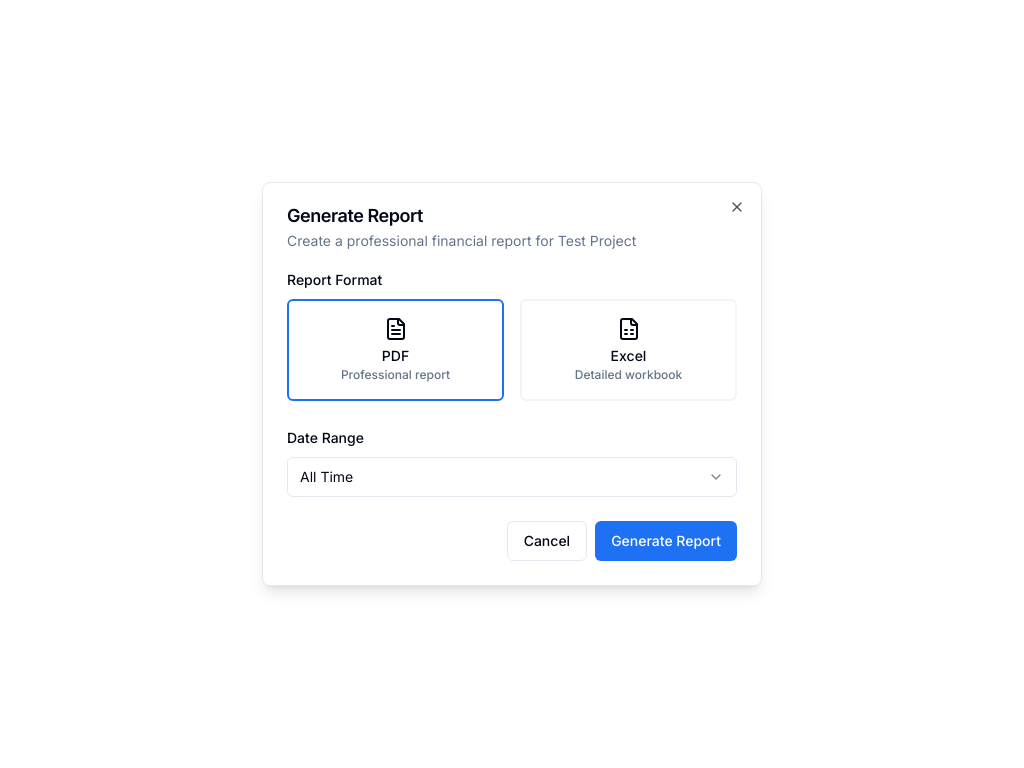
it: ReportOptionsModal › clears download state when switching format after report generation
# Generate PDF report (PDF is selected by default)
Click the button "Generate Report".
click(666, 541)  # box [595,521,737,561]
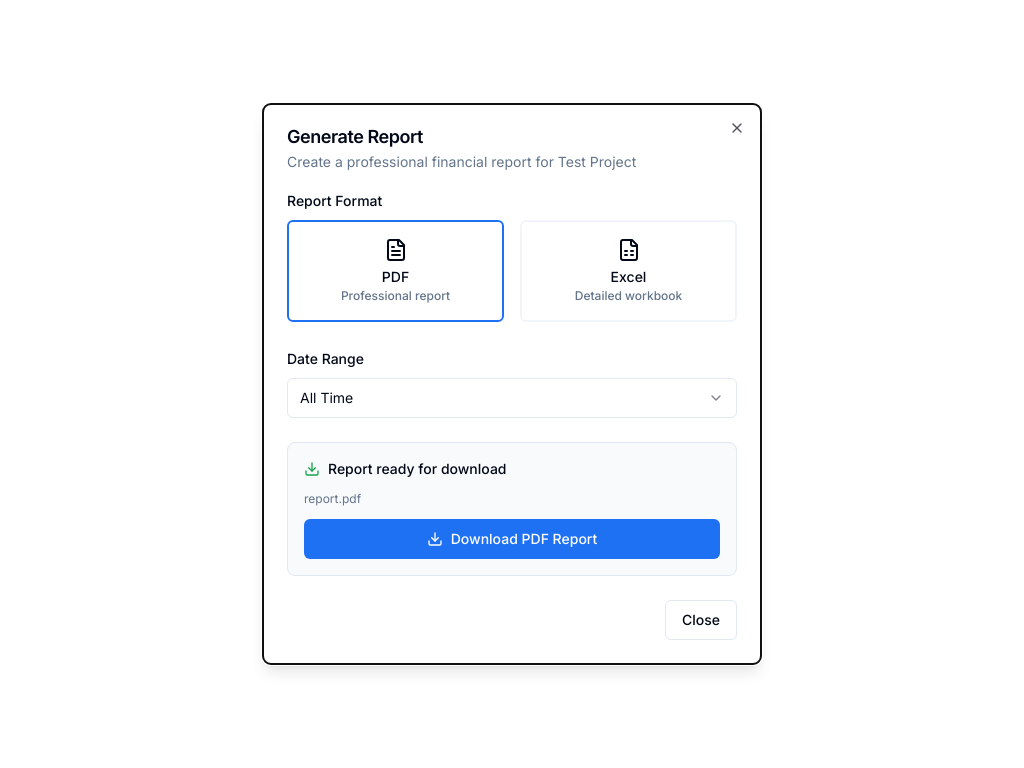
Check: the text "Report ready for download" is shown, box [328,459,506,479]
Check: the text "report.pdf" is shown, box [304,491,361,506]
Check: the button "Download PDF Report" is shown, box [304,519,720,559]
# Switch to Excel format
Click the 2nd radio button named "Excel".
click(628, 245)  # box [620,237,636,253]
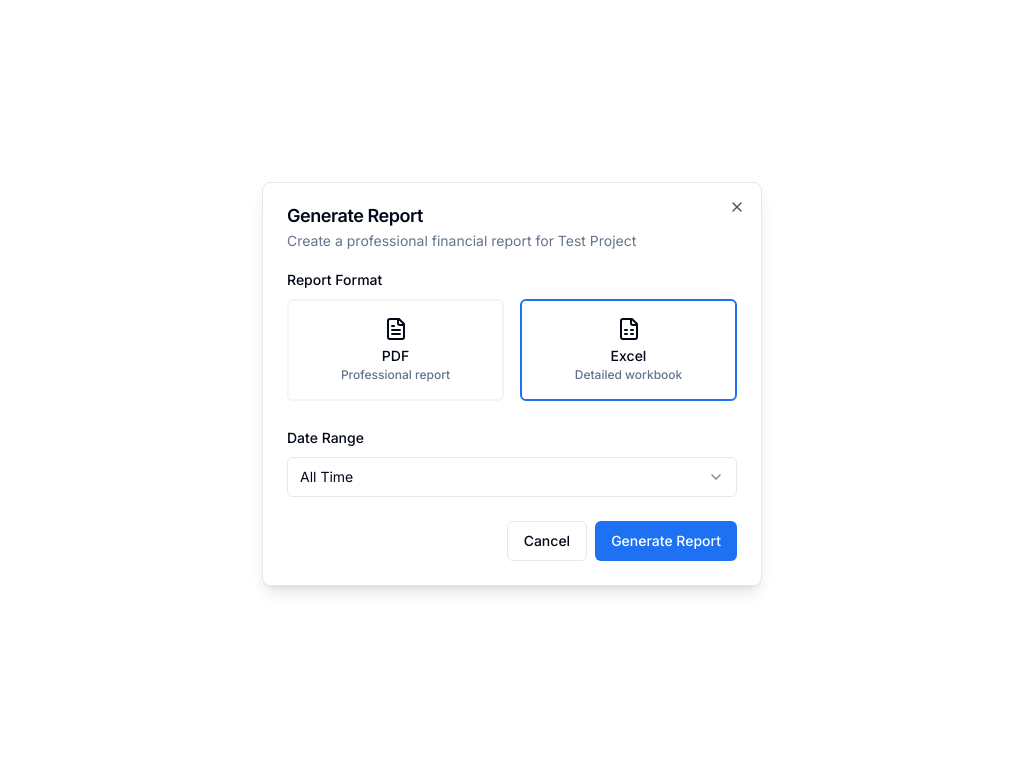
Check: the text "Report ready for download" is gone
Check: the text "report.pdf" is gone
Check: the button "Download PDF Report" is gone
